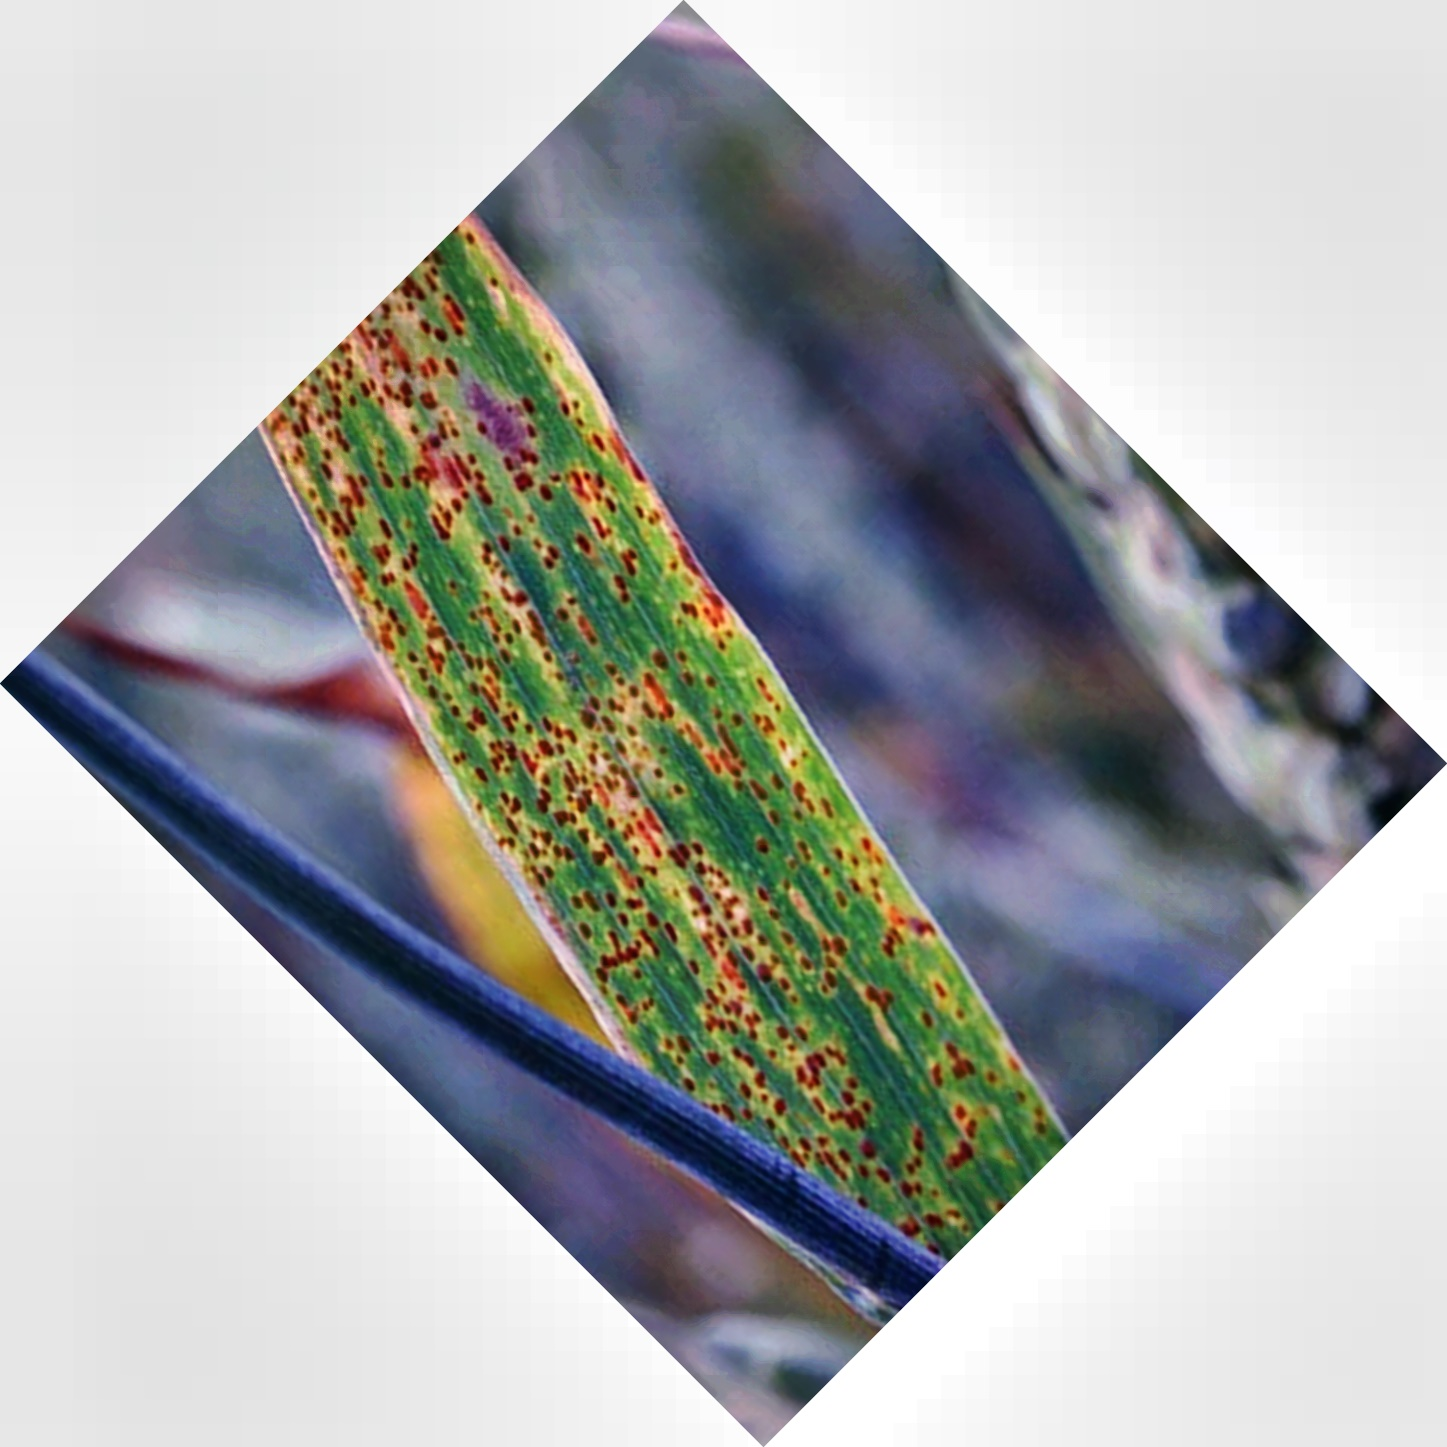Leaf Rust: (288, 310, 974, 1120)
